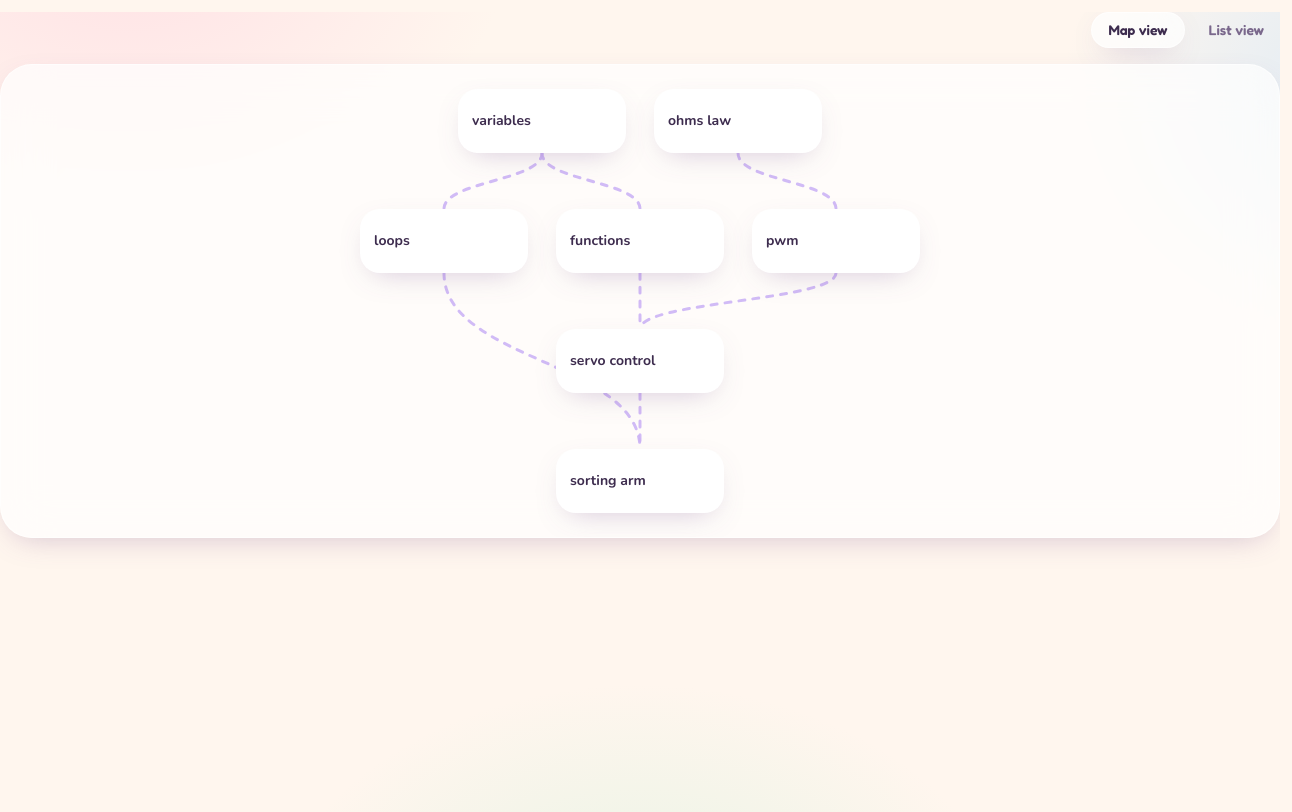
Test: GraphView › opens the concept details when a node is clicked
The width and height of the screenshot is (1292, 812).
Step 1. Click the button "servo control" → (640, 361), box [556,329,724,393]
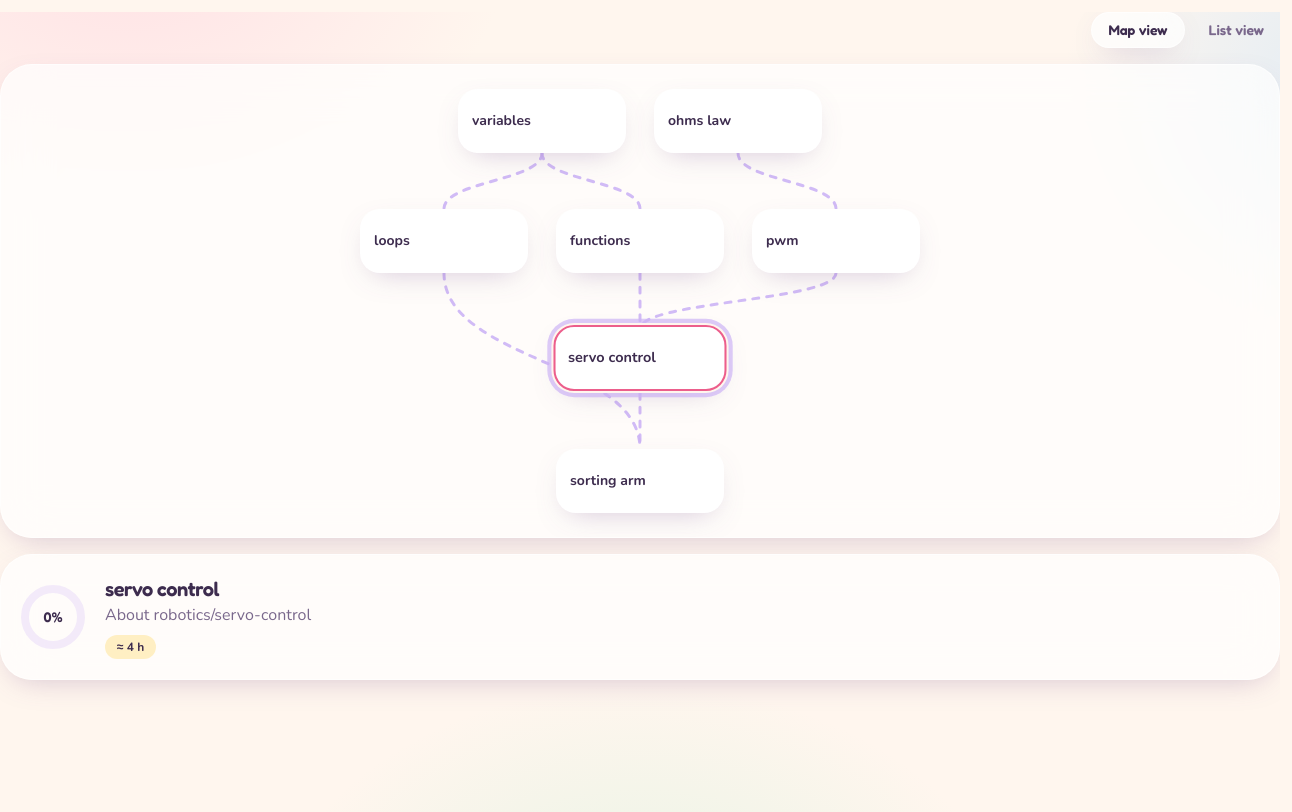
Check: the element "0% servo control About robotics/servo-control ≈ 4 h" is shown, box [0,554,1280,680]
